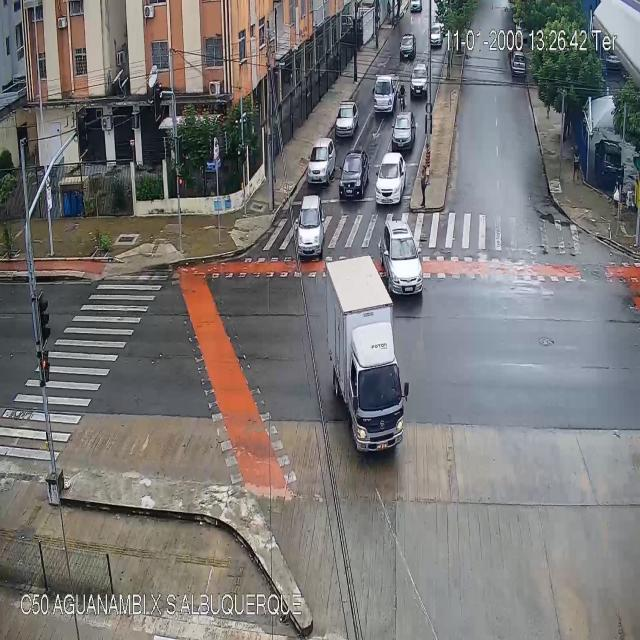Car: (381, 219, 424, 296), (294, 195, 326, 258), (377, 150, 406, 208), (338, 148, 368, 200), (308, 138, 334, 181), (391, 113, 416, 155), (336, 99, 359, 136), (410, 62, 428, 100), (399, 34, 415, 63), (429, 21, 443, 47), (512, 50, 523, 70)
Motorcycle: (398, 84, 406, 111)
Truck: (325, 256, 409, 452), (373, 71, 397, 112)
